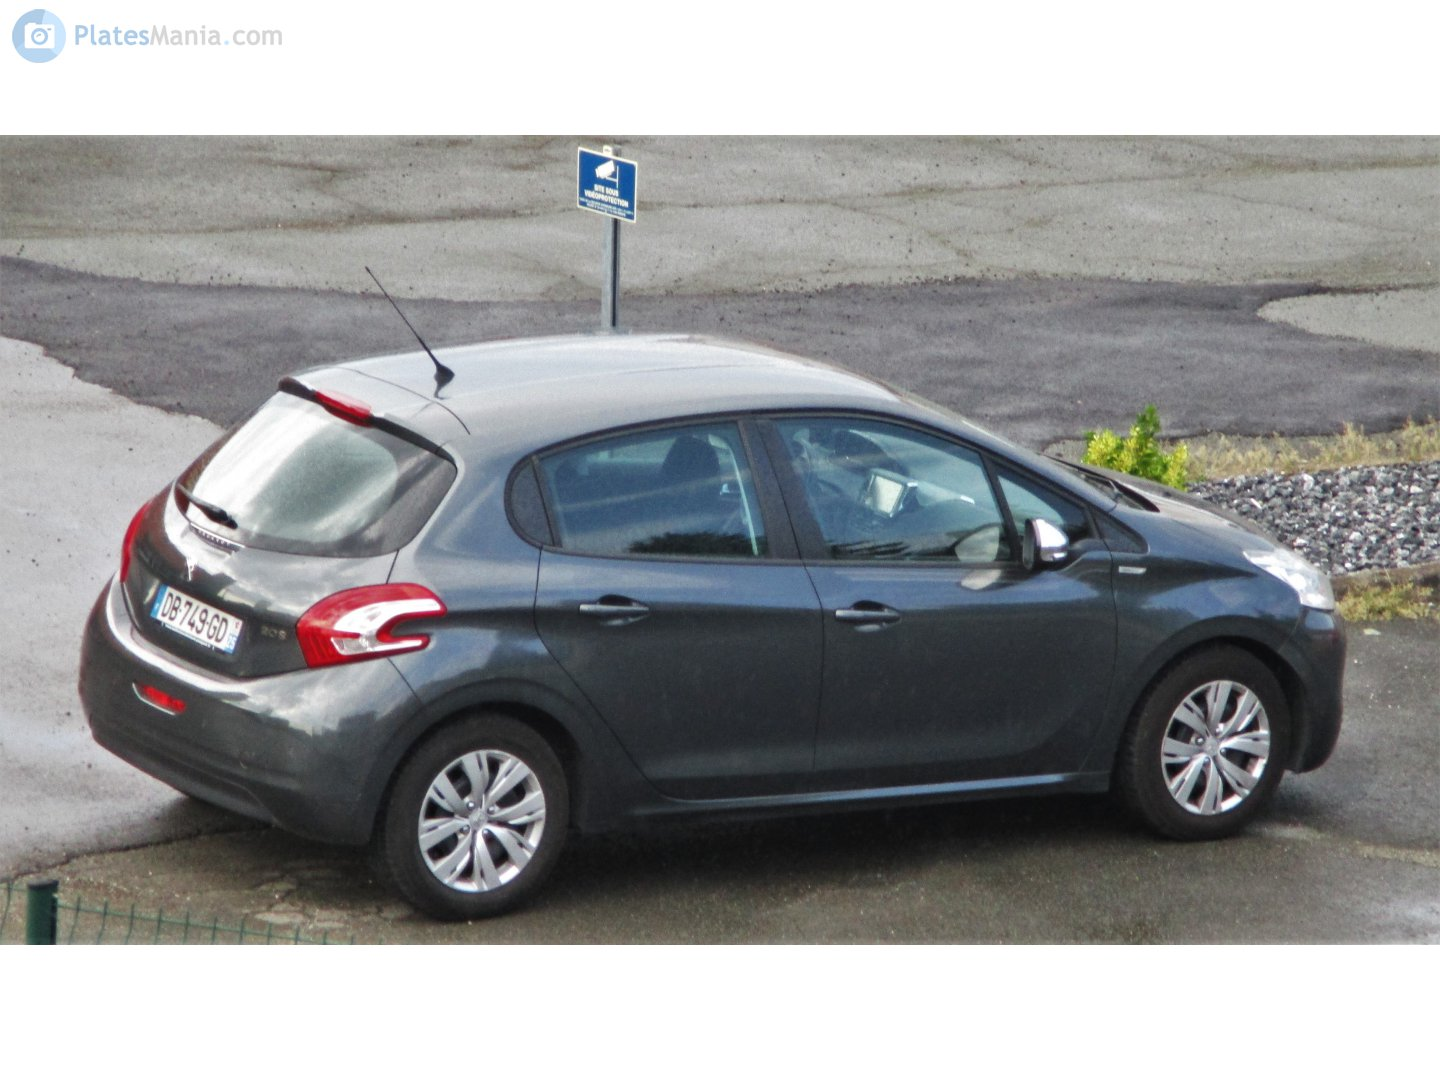licence plate: (147, 582, 243, 658)
